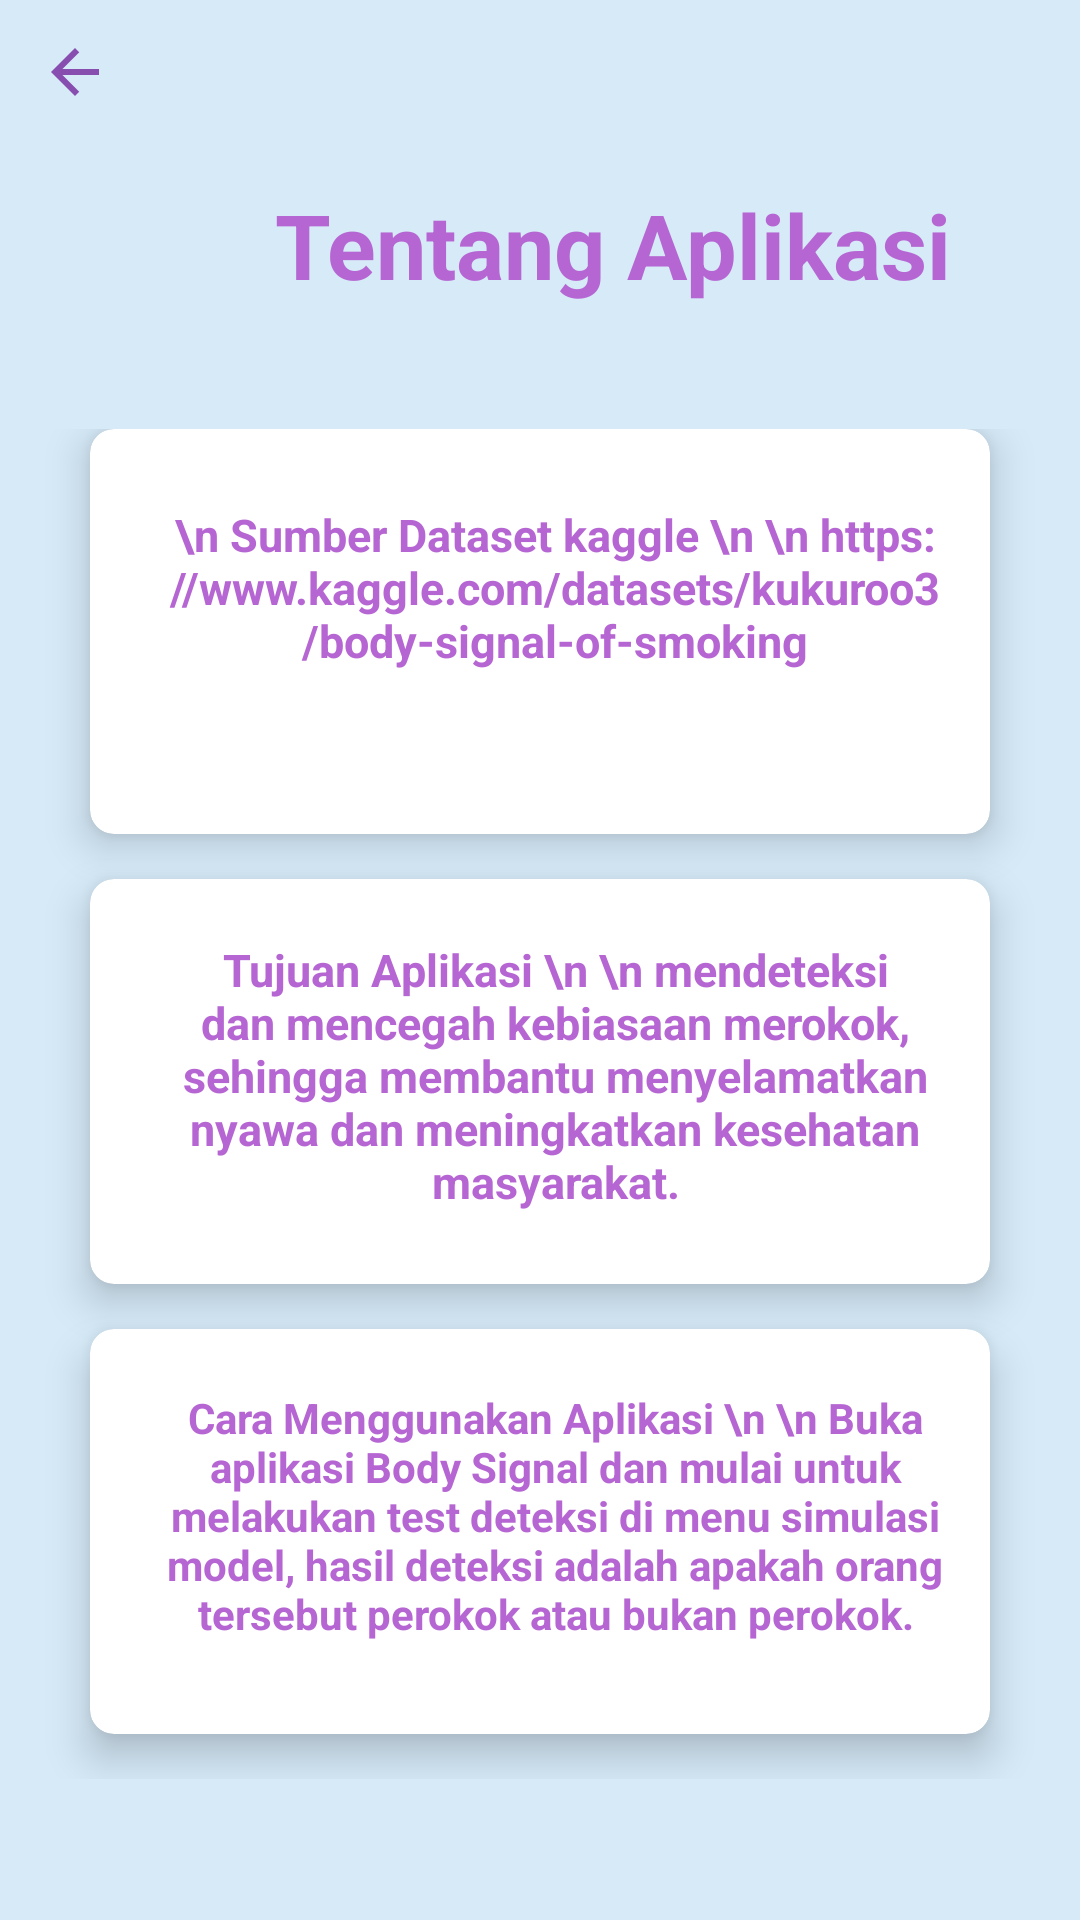

Named icons in this screenshot (1080 × 1920) and their bounding boxes, rect(x1, y1, x2, y2):
back: rect(51, 48, 99, 96)
